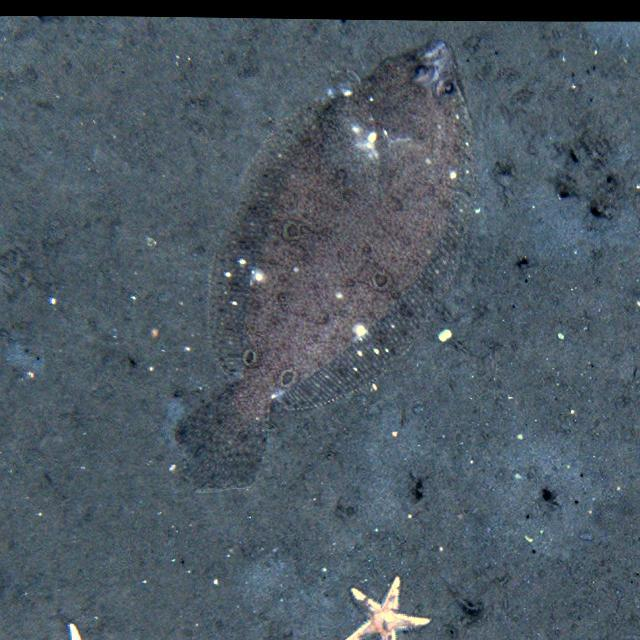flatfish: (176, 35, 491, 487)
